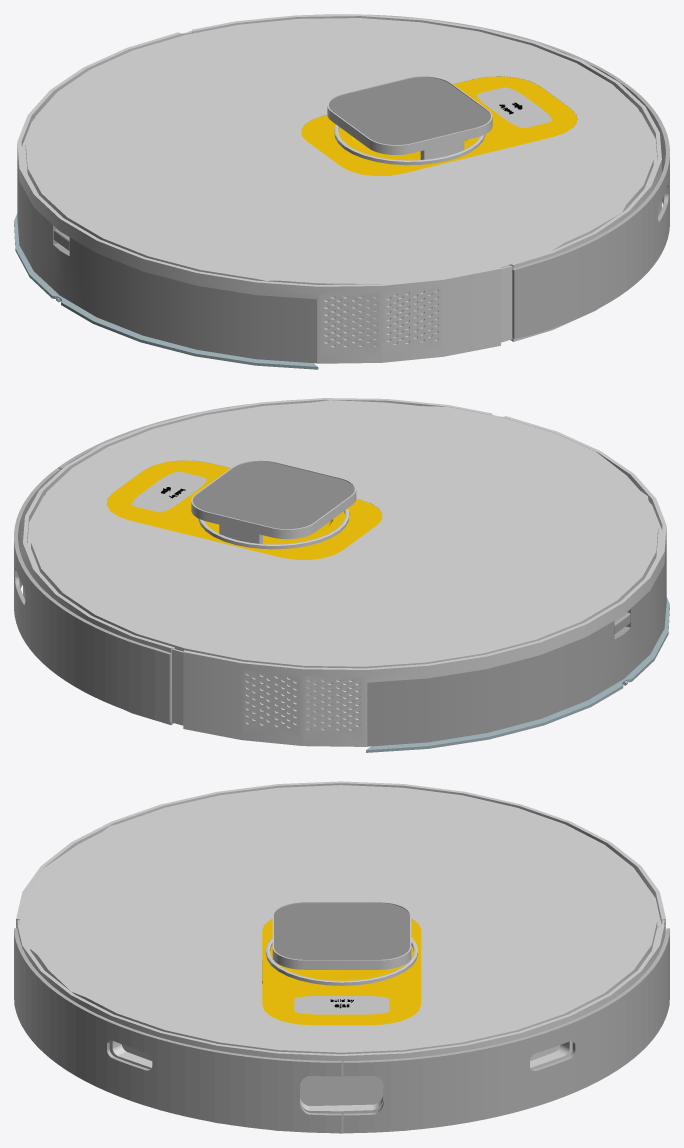
3 views of the same model, one above another, from view 1: azimuth 30°, elevation 25°; view 2: azimuth 150°, elevation 25°; view 3: azimuth 270°, elevation 25° (orthographic).
Parts seen in each view (by area): view 1: base; view 2: base; view 3: base.
Boxes of the visible parts, x1,y1,x2,y2 form: base: [14, 14, 669, 369]; base: [14, 398, 669, 752]; base: [14, 781, 669, 1133].
Bounding box in the file's own units: 0.5224 × 0.5175 × 0.0931.
